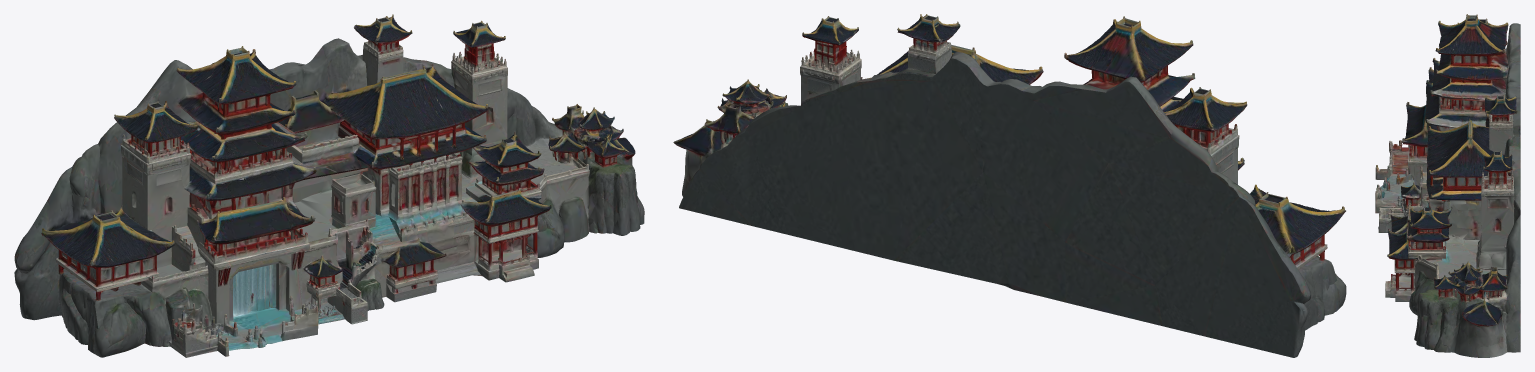
File: cliff_palace.glb
3 views of the same model, side by side, from view 1: azimuth 30°, elevation 25°; view 2: azimuth 150°, elevation 25°; view 3: azimuth 270°, elevation 25° (orthographic). The views are drawn at different scales.
Size of the model in its own units: 1.9 by 0.7406 by 0.5152.
1 material, 1 textured.
